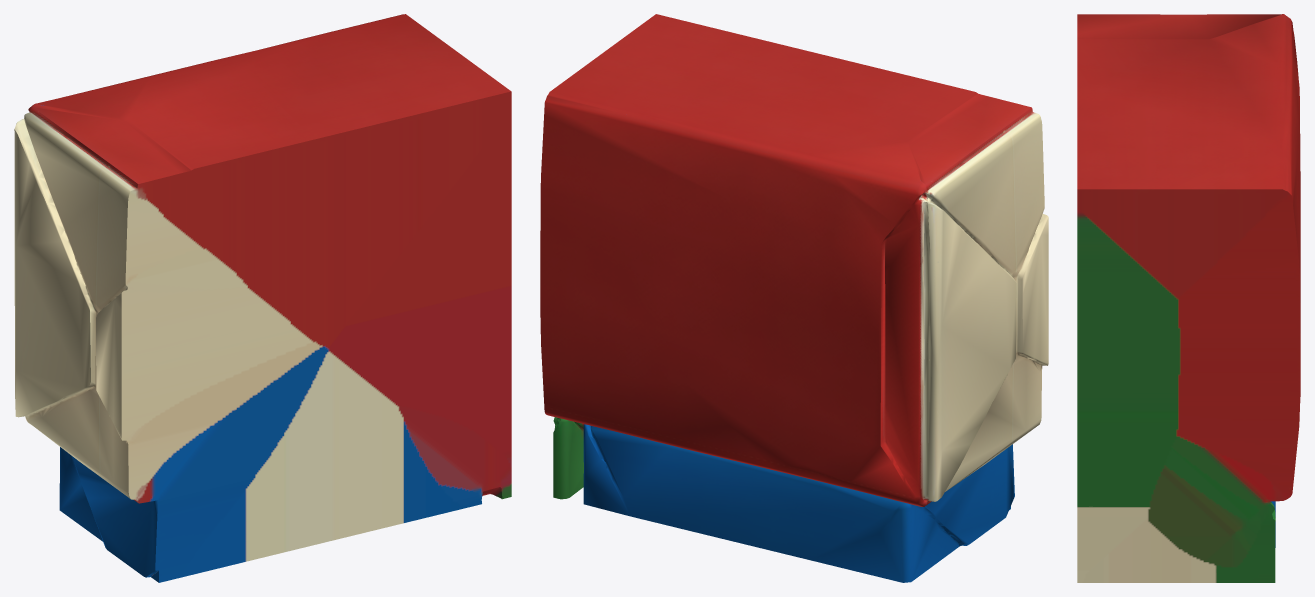
File: 15-topper-back-left.fbx
The picture shows the model from 3 angles, left to right: view 1: azimuth 30°, elevation 25°; view 2: azimuth 150°, elevation 25°; view 3: azimuth 270°, elevation 25°; orthographic projection. The views are drawn at different scales.
Parts seen in each view (by area): view 1: topper-back-left; view 2: topper-back-left; view 3: topper-back-left.
Boxes of the visible parts, box(x1,y1,x2,y2) form: topper-back-left: box(14, 14, 511, 582); topper-back-left: box(540, 14, 1048, 582); topper-back-left: box(1077, 14, 1300, 582).
Size of the model in its own units: 6559 by 6521 by 3351.
1 material, 1 textured.
